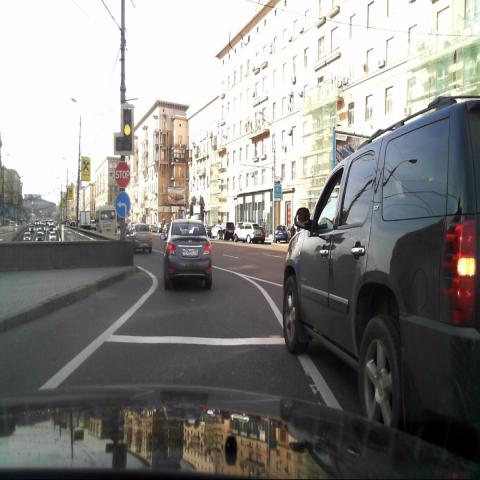4_1_3: (115, 190, 131, 218)
